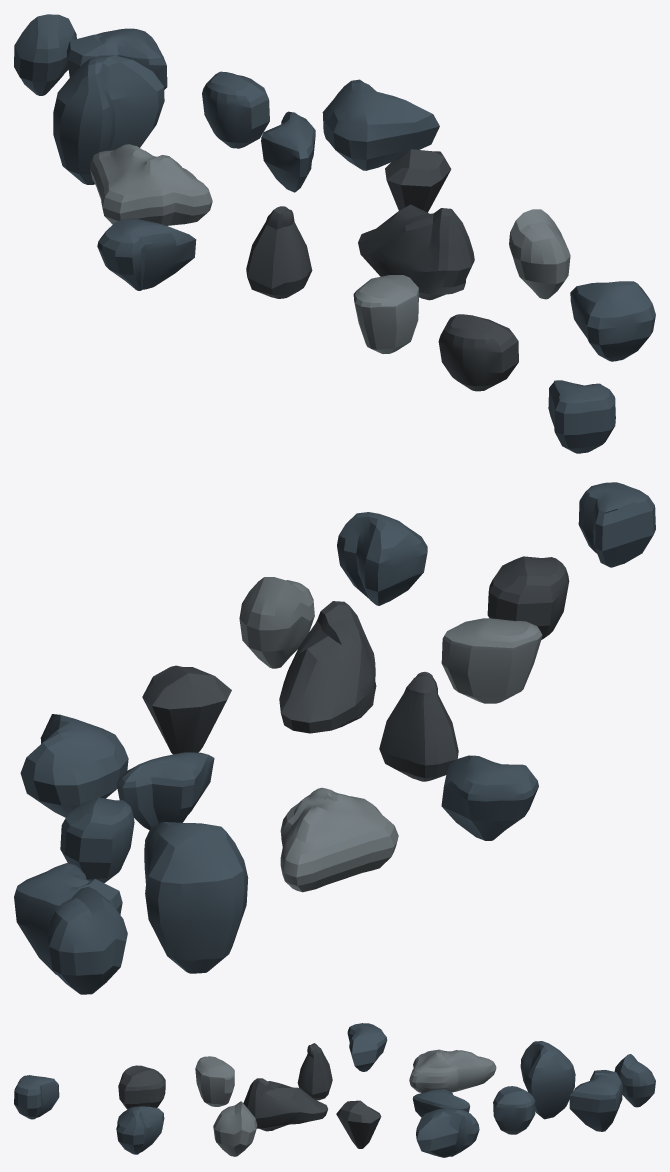
File: Hills.fbx
3 renders of one model, top to bottom at view 1: azimuth 30°, elevation 25°; view 2: azimuth 150°, elevation 25°; view 3: azimuth 270°, elevation 25°, orthographic. The views are drawn at different scales.
Parts seen in each view (by area): view 1: Hills.015, Hills.002, Hills.005, Hills.001, Hills.013, Hills.007, Hills.010, Hills.012, Hills.008, Hills.009, Hills.014, Hills.011 (+4 smaller); view 2: Hills.015, Hills.002, Hills.005, Hills.001, Hills.008, Hills, Hills.013, Hills.007, Hills.012, Hills.004, Hills.006, Hills.011 (+4 smaller); view 3: Hills.015, Hills.005, Hills.002, Hills.001, Hills.003, Hills.013, Hills.011, Hills.010, Hills.009, Hills.008, Hills.014, Hills.007 (+4 smaller).
Part boxes in pixels (box(x1,y1,x2,y2)): Hills.015: box(53, 55, 164, 184); Hills.002: box(358, 204, 474, 300); Hills.005: box(90, 144, 212, 225); Hills.001: box(322, 79, 439, 170); Hills.013: box(570, 281, 655, 361); Hills.007: box(97, 218, 196, 290); Hills.010: box(438, 314, 518, 391); Hills.012: box(246, 206, 312, 298); Hills.008: box(353, 275, 418, 353); Hills.009: box(202, 71, 269, 148); Hills.014: box(548, 380, 615, 453); Hills.011: box(509, 209, 570, 299); Hills.015: box(144, 822, 248, 973); Hills.002: box(279, 601, 376, 733); Hills.005: box(280, 787, 398, 892); Hills.001: box(20, 714, 128, 817); Hills.008: box(441, 618, 542, 703); Hills: box(47, 886, 127, 994); Hills.013: box(337, 512, 427, 605); Hills.007: box(441, 755, 538, 840); Hills.012: box(379, 671, 458, 781); Hills.004: box(142, 665, 231, 754); Hills.006: box(116, 752, 214, 829); Hills.011: box(239, 577, 314, 668); Hills.015: box(520, 1041, 575, 1119); Hills.005: box(409, 1049, 496, 1092); Hills.002: box(243, 1078, 327, 1131); Hills.001: box(416, 1108, 479, 1157); Hills.003: box(569, 1070, 622, 1131); Hills.013: box(116, 1106, 164, 1154); Hills.011: box(213, 1101, 257, 1156); Hills.010: box(118, 1065, 165, 1109); Hills.009: box(493, 1086, 535, 1134); Hills.008: box(195, 1056, 234, 1106); Hills.014: box(14, 1075, 59, 1119); Hills.007: box(347, 1023, 387, 1071).
Size of the model in its own units: 3182 by 977 by 7696.
